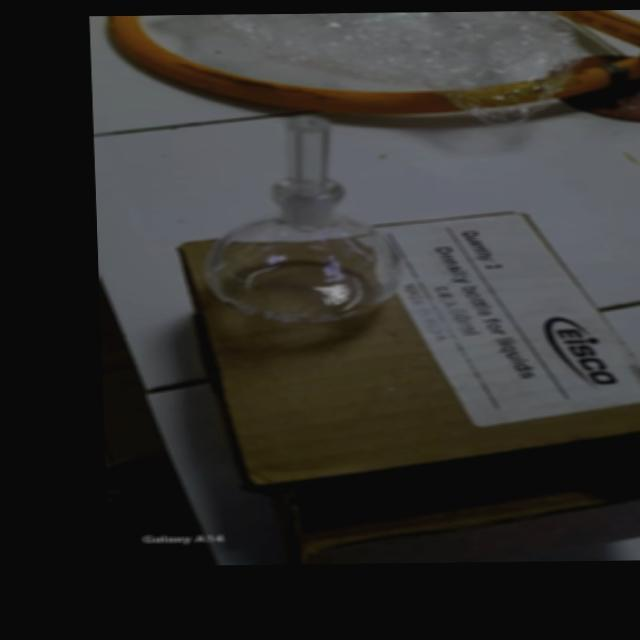Density Bottle for Liquids: (187, 114, 426, 336)
